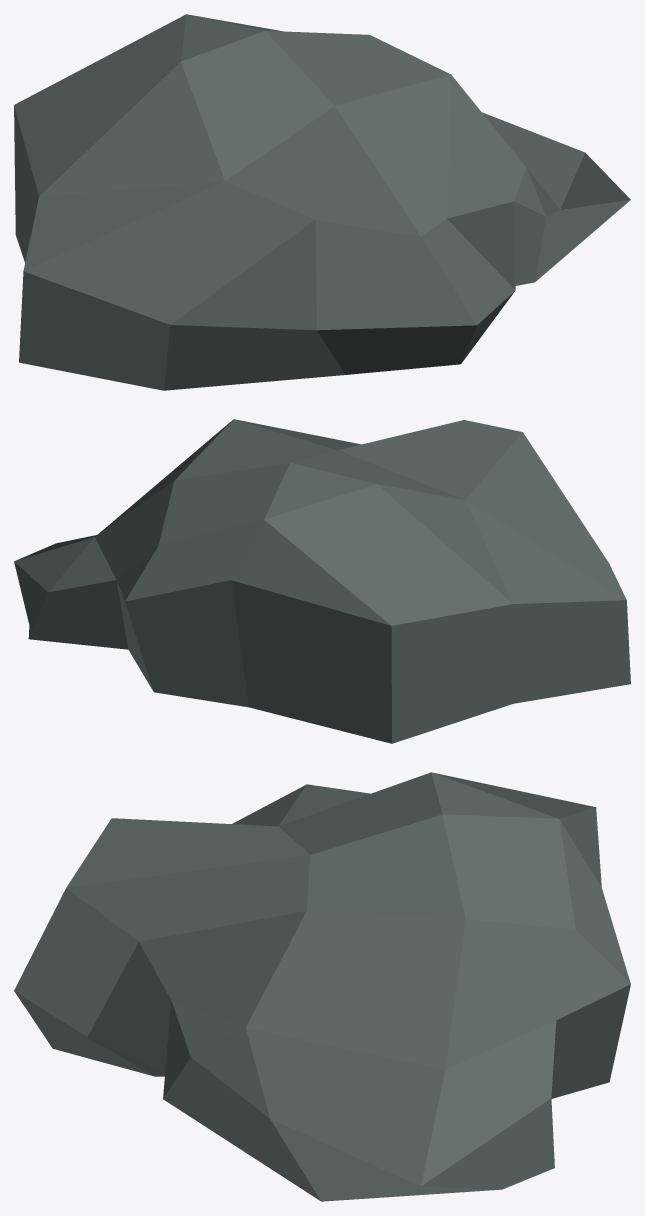
Rendered from SM_Rock_F.glb.
3 renders of one model, top to bottom at view 1: azimuth 30°, elevation 25°; view 2: azimuth 150°, elevation 25°; view 3: azimuth 270°, elevation 25°, orthographic. The views are drawn at different scales.
Visible parts, largest first — view 1: SM_Rock_F; view 2: SM_Rock_F; view 3: SM_Rock_F.
Boxes of the visible parts, box(x1,y1,x2,y2) form: SM_Rock_F: box(14, 14, 630, 390); SM_Rock_F: box(14, 419, 630, 743); SM_Rock_F: box(14, 772, 630, 1201).
Size of the model in its own units: 1.46 by 0.4944 by 1.16.
1 material, 1 textured.
